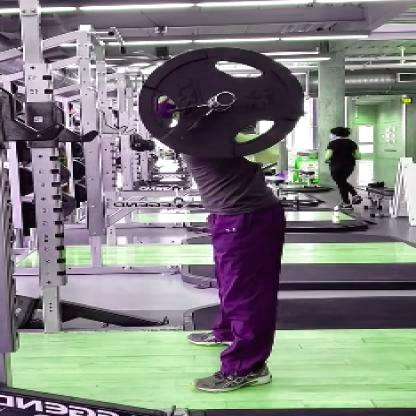Barbell: (210, 88, 238, 109)
